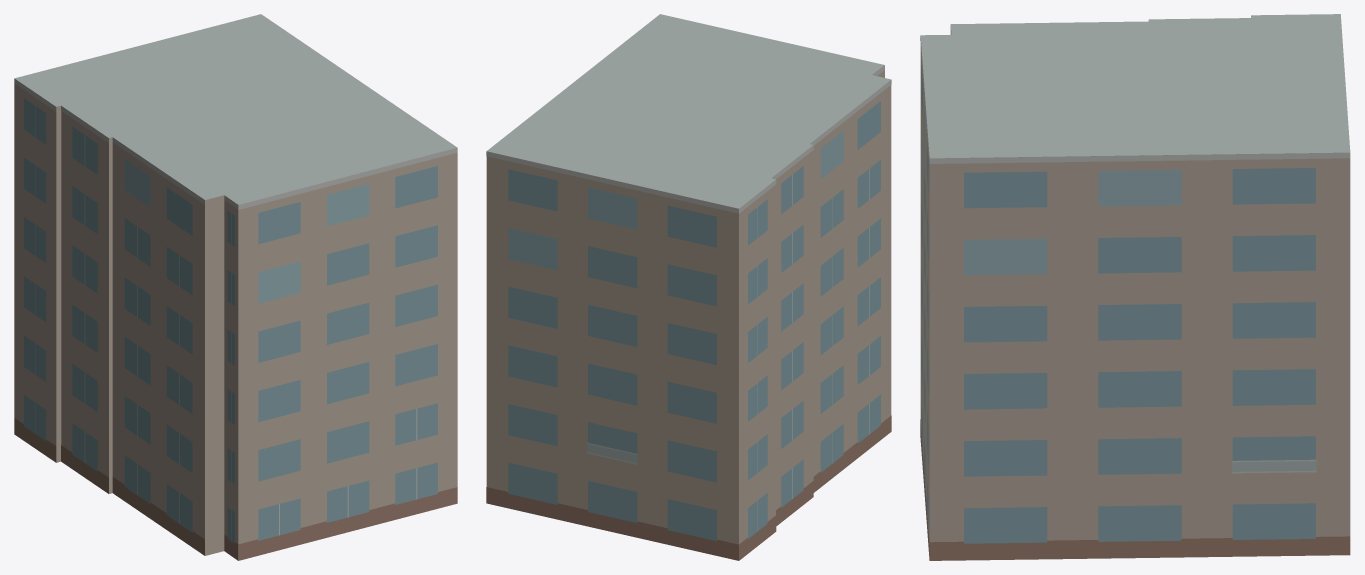
Rendered from survey-upis-32976275.glb.
The picture shows the model from 3 angles, left to right: view 1: azimuth 30°, elevation 25°; view 2: azimuth 150°, elevation 25°; view 3: azimuth 270°, elevation 25°; orthographic projection. The views are drawn at different scales.
Parts seen in each view (by area): view 1: survey-upis-32976275.tmp; view 2: survey-upis-32976275.tmp; view 3: survey-upis-32976275.tmp.
Boxes of the visible parts, x1,y1,x2,y2 form: survey-upis-32976275.tmp: (14, 14, 457, 560); survey-upis-32976275.tmp: (486, 14, 891, 560); survey-upis-32976275.tmp: (920, 14, 1350, 560).
Size of the model in its own units: 13.31 by 17.3 by 16.75.
